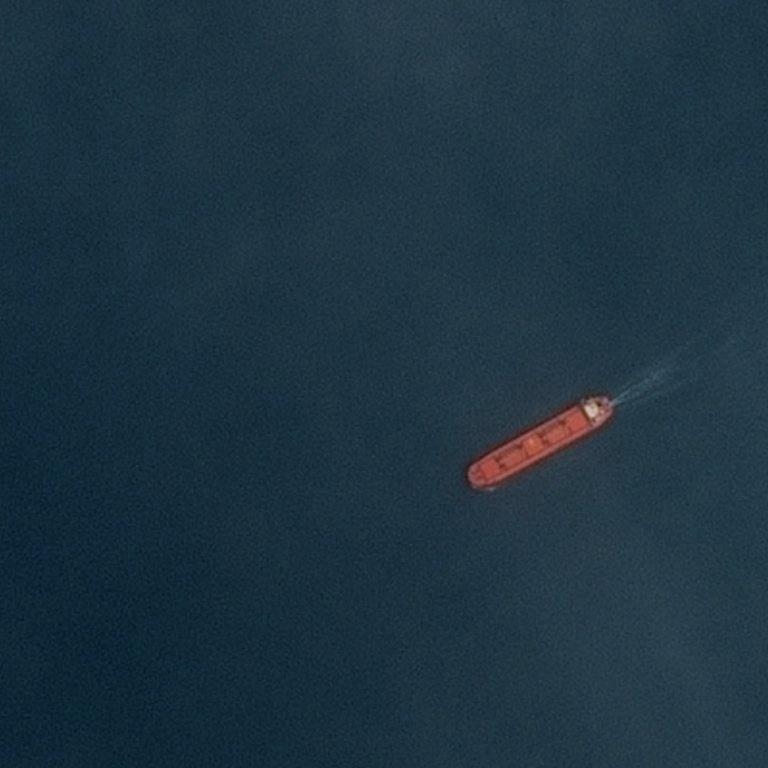ship: (464, 422, 625, 465), (466, 476, 475, 484), (599, 395, 607, 404), (608, 407, 616, 416)
